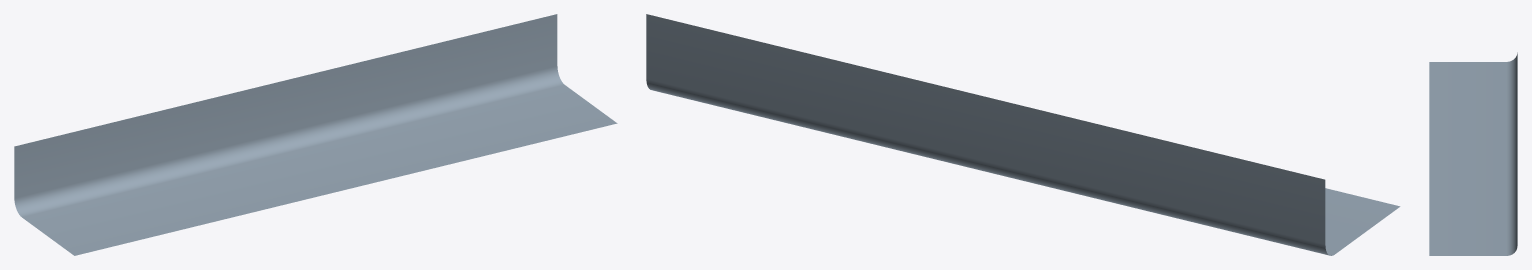
Rendered from floor-01.glb.
The picture shows the model from 3 angles, left to right: view 1: azimuth 30°, elevation 25°; view 2: azimuth 150°, elevation 25°; view 3: azimuth 270°, elevation 25°; orthographic projection. The views are drawn at different scales.
Visible parts, largest first — view 1: BG; view 2: BG; view 3: BG.
Boxes of the visible parts, x1,y1,x2,y2 form: BG: (14, 14, 617, 255); BG: (646, 14, 1400, 255); BG: (1429, 52, 1517, 255).
Size of the model in its own units: 142 by 16.33 by 27.2.
